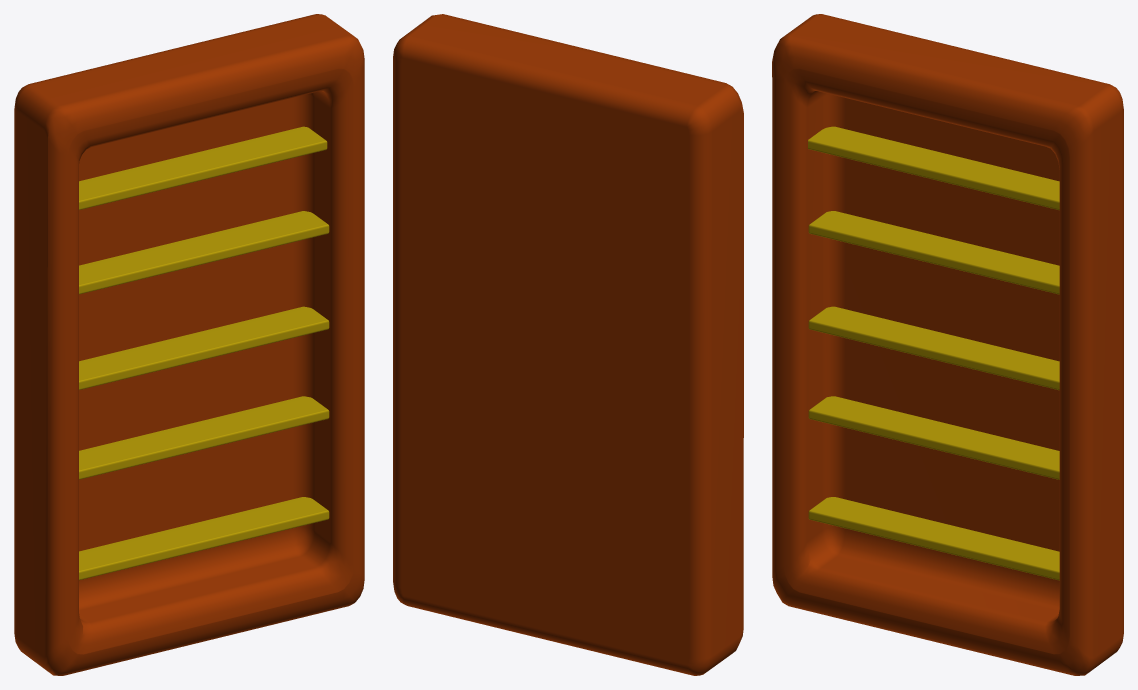
Rendered from book_shelves_02.fbx.
The picture shows the model from 3 angles, left to right: view 1: azimuth 30°, elevation 25°; view 2: azimuth 150°, elevation 25°; view 3: azimuth 330°, elevation 25°; orthographic projection.
Visible parts, largest first — view 1: shelf_boader, shelf_4, shelf_3, shelf_2, shelf_5, shelf_1; view 2: shelf_boader; view 3: shelf_boader, shelf_1, shelf_3, shelf_2, shelf_5, shelf_4.
Part boxes in pixels (x1,y1,x2,y2): shelf_boader: (14,14,364,675); shelf_4: (79,396,329,479); shelf_3: (79,306,329,389); shelf_2: (79,211,329,294); shelf_5: (79,497,329,580); shelf_1: (79,126,327,209); shelf_boader: (393,14,743,675); shelf_boader: (772,14,1123,675); shelf_1: (808,126,1059,210); shelf_3: (808,306,1059,390); shelf_2: (808,211,1059,294); shelf_5: (808,497,1059,580); shelf_4: (808,396,1059,479).
Bounding box in the file's own units: 634 × 1086 × 153.
